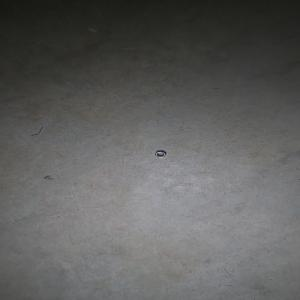Nut: (154, 151, 166, 157)
